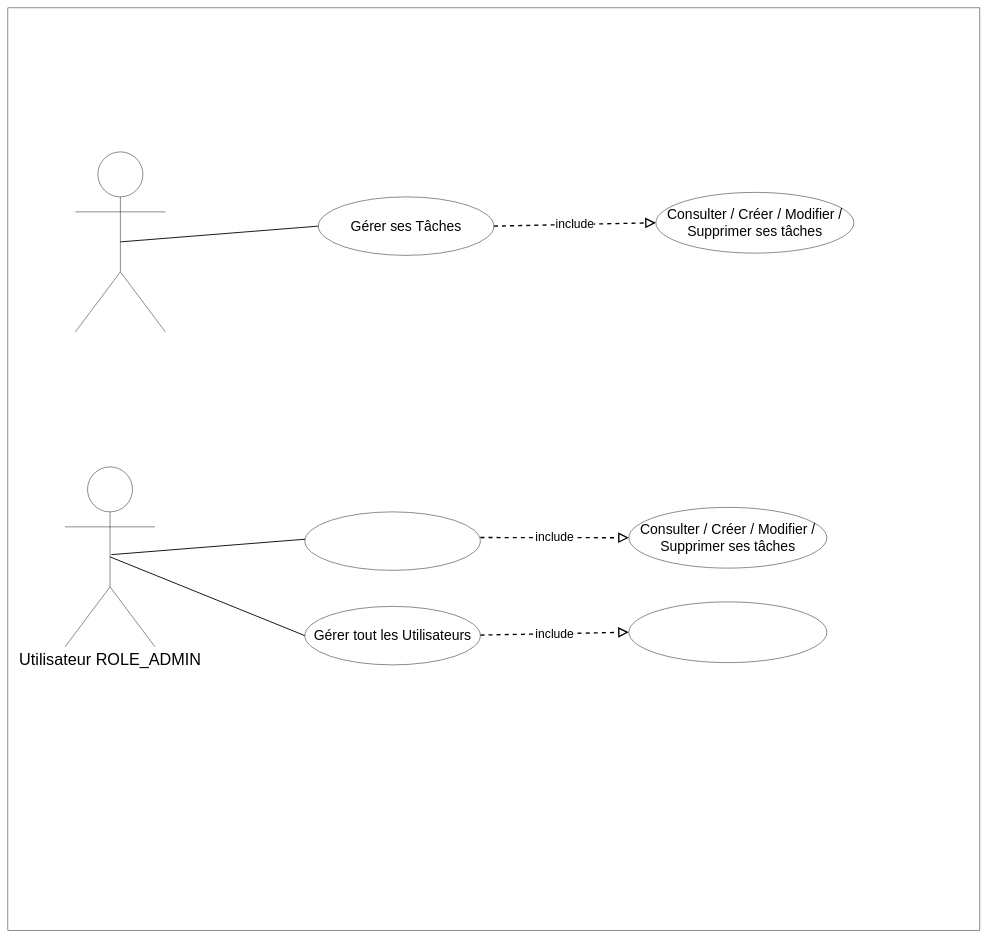
This 988x938 diagram has some shape labels left out. Here are the shapes that lost their labels. From the top down, the box of each, then its label:
(75, 151, 165, 332): Utilisateur ROLE_USER
(304, 511, 480, 570): Gérer toutes les Tâches
(628, 601, 827, 663): Consulter / Créer / Modifier
